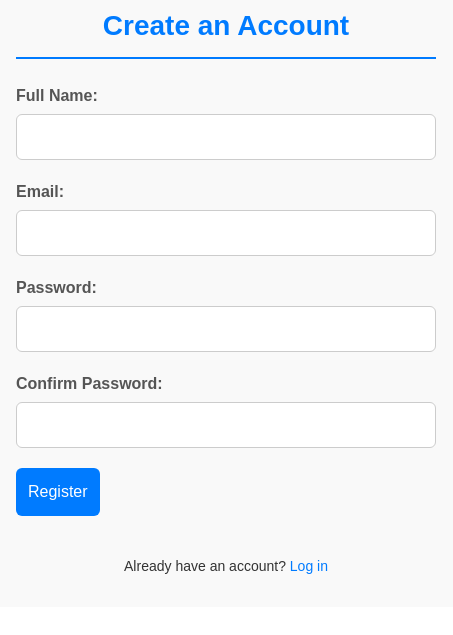
Test: <Register /> › shows error if fields are empty and form is submitted
Click the button with test id "register-button": [58, 492] box [16, 468, 100, 516]
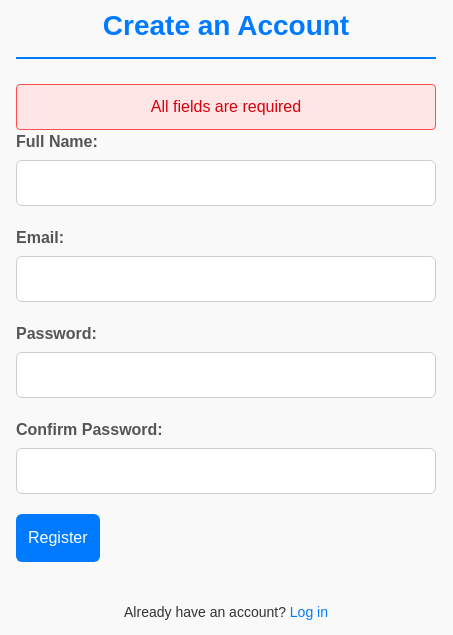
Check: the text "All fields are required" is shown, box [16, 84, 436, 130]
